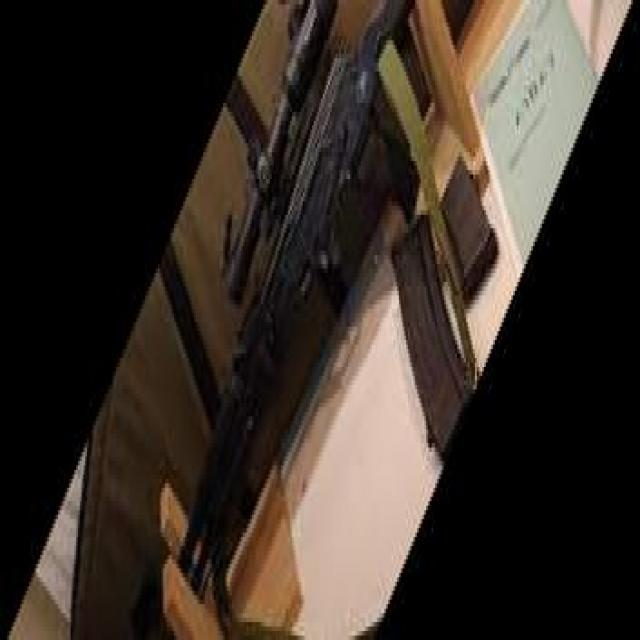weapon: (141, 0, 428, 640)
